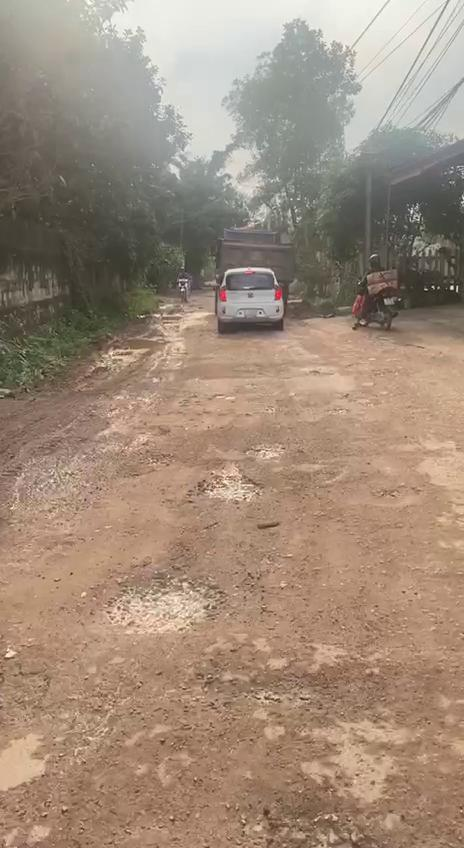pothole: (106, 566, 235, 636), (244, 802, 391, 848), (0, 654, 58, 730), (335, 471, 418, 510), (196, 463, 264, 508), (120, 424, 173, 476), (243, 440, 294, 462)
